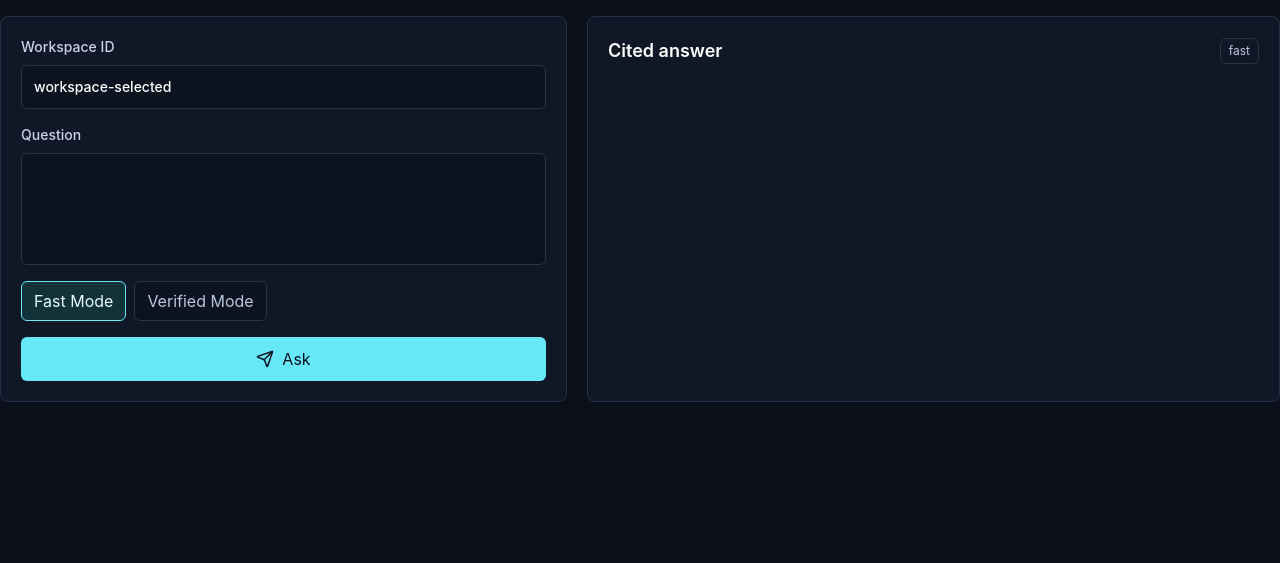
uses the selected workspace id when provided by the dashboard
The width and height of the screenshot is (1280, 563).
Type "Use selected workspace?" into the text box labelled "Question". click: point(284, 209)
box: x1=21 y1=153 x2=546 y2=265
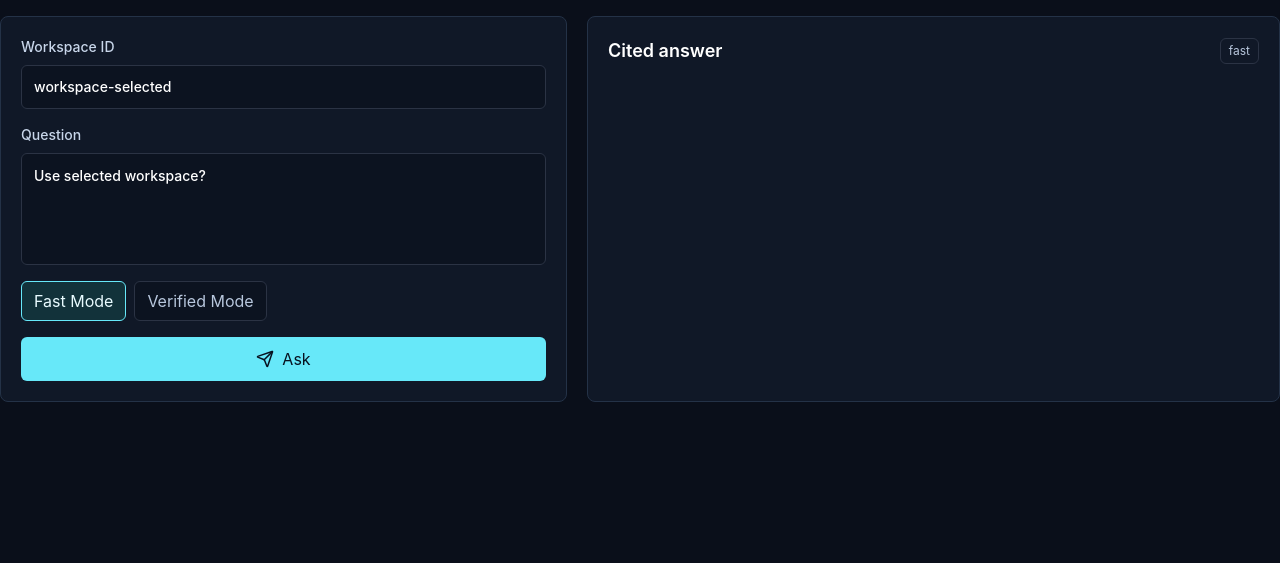
Click the button "Ask". click: point(284, 359)
box: x1=21 y1=337 x2=546 y2=381
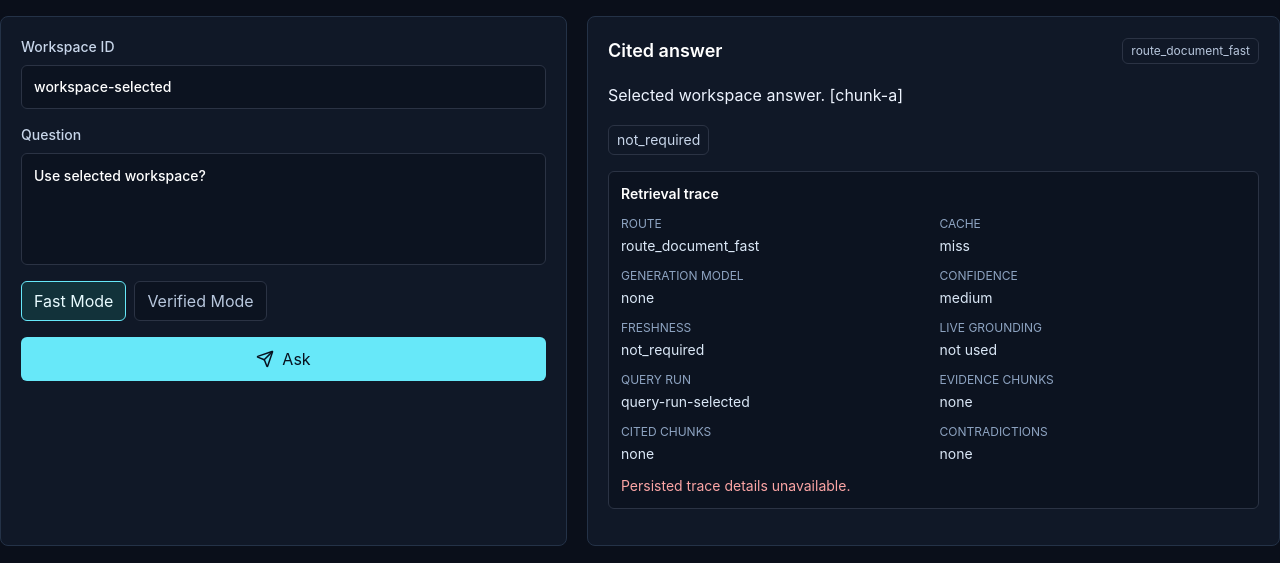
Expected: the text "Selected workspace answer. [chunk-a]" is shown, x1=608 y1=85 x2=903 y2=105
